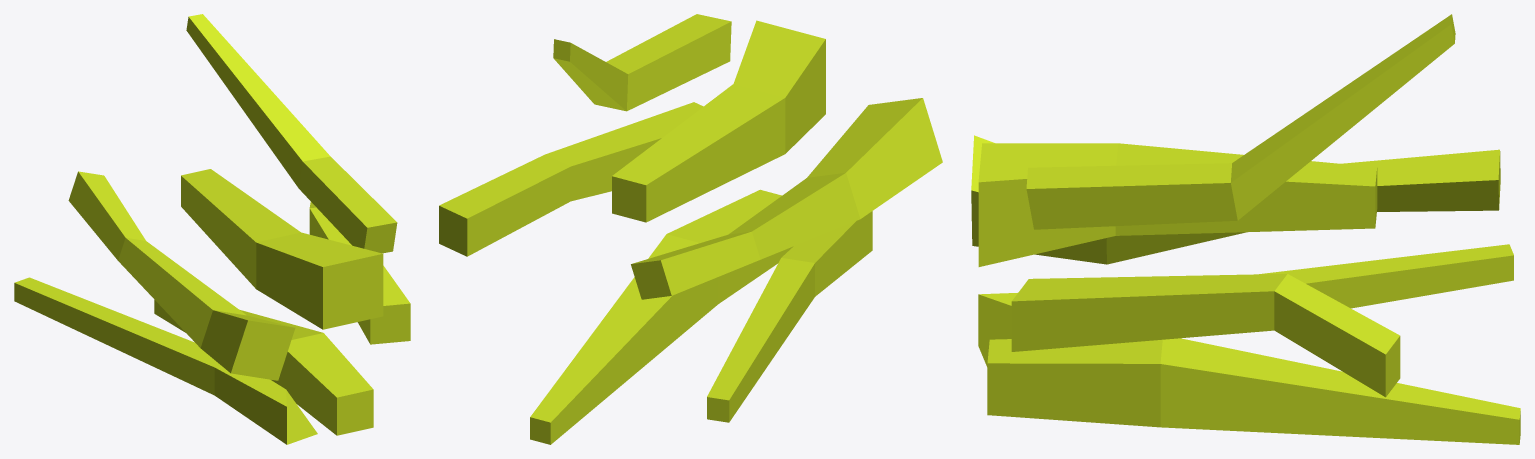
Rendered from LineGrass2.fbx.
3 renders of one model, left to right at view 1: azimuth 30°, elevation 25°; view 2: azimuth 150°, elevation 25°; view 3: azimuth 270°, elevation 25°, orthographic. The views are drawn at different scales.
Visible parts, largest first — view 1: LineGrass2; view 2: LineGrass2; view 3: LineGrass2.
Boxes of the visible parts, x1=… form: LineGrass2: x1=14, y1=14, x2=410, y2=444; LineGrass2: x1=439, y1=14, x2=942, y2=444; LineGrass2: x1=971, y1=14, x2=1520, y2=444.
Size of the model in its own units: 0.1914 by 0.2 by 0.2342.
